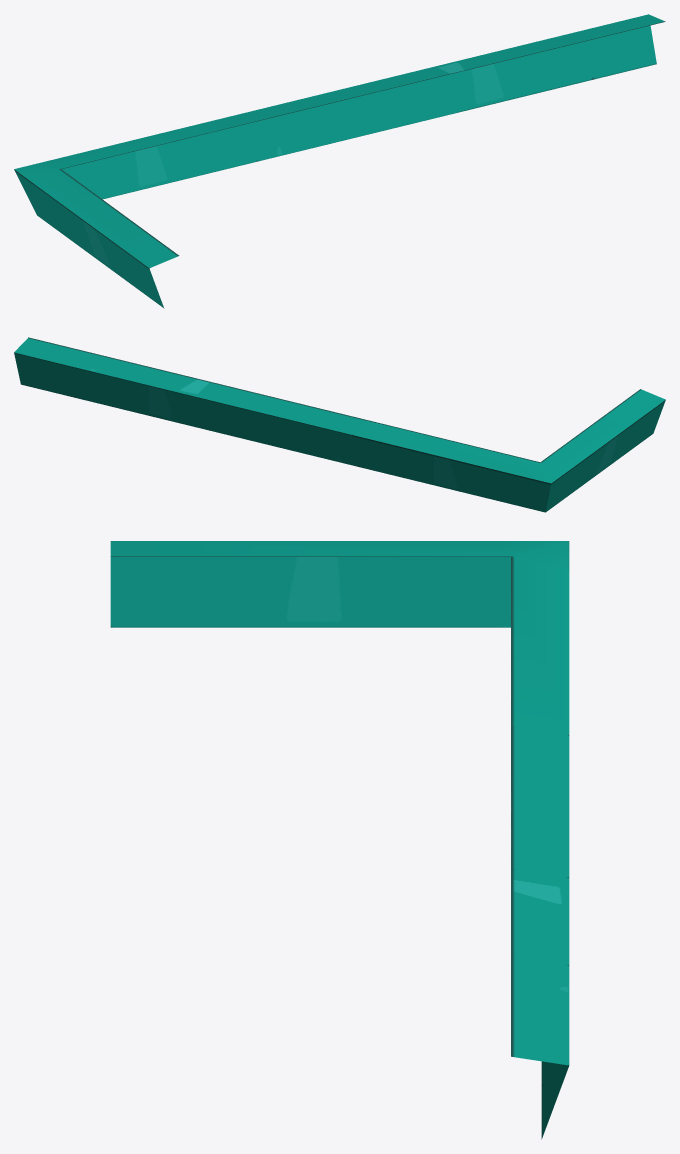
Rendered from BigTemple_Rim.fbx.
3 views of the same model, one above another, from view 1: azimuth 30°, elevation 25°; view 2: azimuth 150°, elevation 25°; view 3: azimuth 270°, elevation 25° (orthographic). The views are drawn at different scales.
Parts seen in each view (by area): view 1: BigTemple_Rim01.001, BigTemple_RimCorner01; view 2: BigTemple_Rim01.001, BigTemple_RimCorner01; view 3: BigTemple_RimCorner01, BigTemple_Rim01.001.
Part boxes in pixels (x1,y1,x2,y2): BigTemple_Rim01.001: (249,14,665,161); BigTemple_RimCorner01: (14,112,265,308); BigTemple_Rim01.001: (14,337,366,466); BigTemple_RimCorner01: (352,389,665,512); BigTemple_RimCorner01: (110,541,569,734); BigTemple_Rim01.001: (511,726,569,1139).
Bounding box in the file's own units: 10535 × 779 × 3895.
